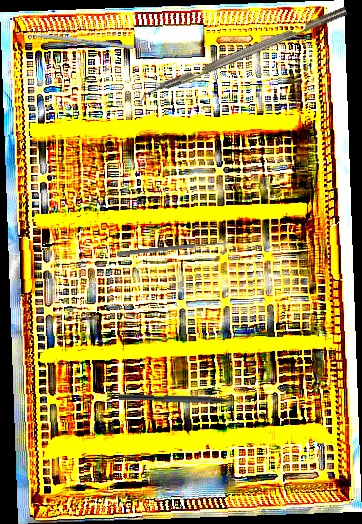Chopper: (134, 6, 352, 111), (118, 393, 247, 412)
Pusher: (12, 30, 134, 50)
Surgical Spoon: (117, 240, 228, 257)
